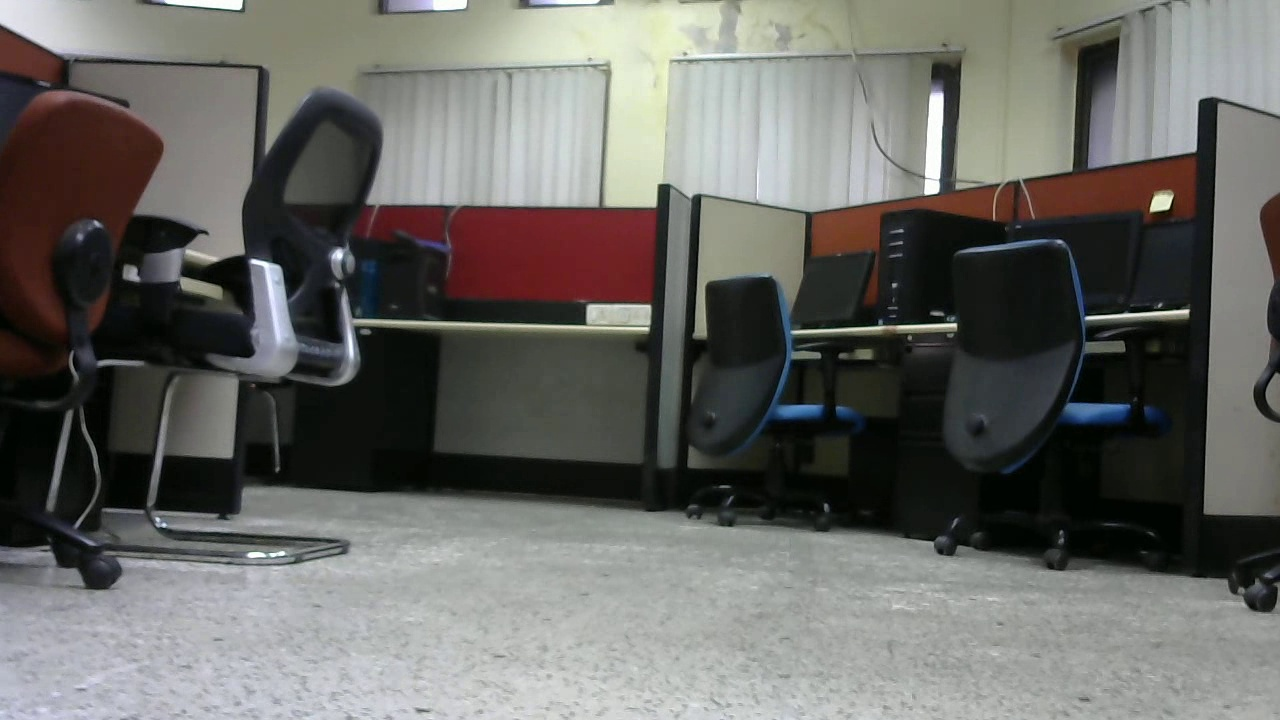chair: (125, 70, 391, 564), (926, 235, 1161, 576), (670, 268, 868, 532)
